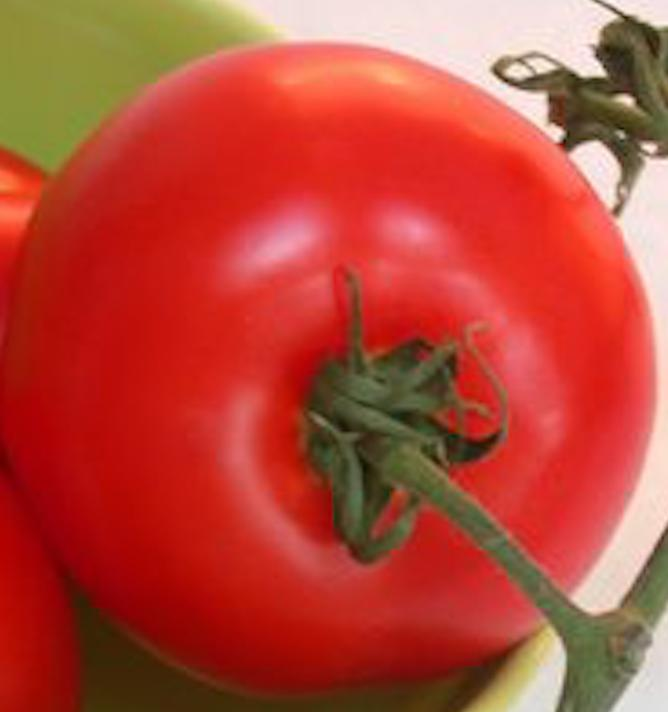tomato: (25, 46, 658, 684)
